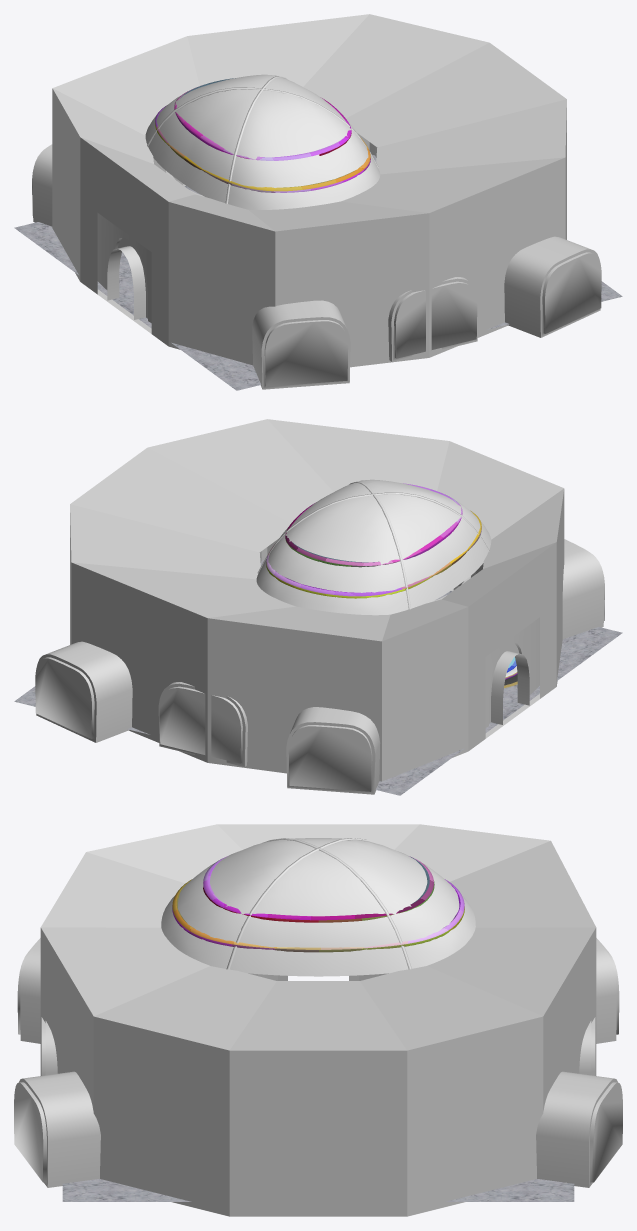
File: LOBBY_avatarHub.fbx
3 views of the same model, one above another, from view 1: azimuth 30°, elevation 25°; view 2: azimuth 150°, elevation 25°; view 3: azimuth 270°, elevation 25° (orthographic). The views are drawn at different scales.
Visible parts, largest first — view 1: LobbyAvatarHub, AvatarLobbyWall.001, AvatarLobbyWall.002, AvatarLobbyWall.008; view 2: LobbyAvatarHub, AvatarLobbyWall.001, AvatarLobbyWall.002, AvatarLobbyWall.008; view 3: LobbyAvatarHub, AvatarLobbyWall.002, AvatarLobbyWall.001, AvatarLobbyWall.008.
Part boxes in pixels (left/top/right/bottom): LobbyAvatarHub: left=52, top=14, right=566, bottom=367; AvatarLobbyWall.001: left=32, top=144, right=601, bottom=389; AvatarLobbyWall.002: left=145, top=74, right=380, bottom=209; AvatarLobbyWall.008: left=14, top=155, right=622, bottom=390; LobbyAvatarHub: left=70, top=419, right=564, bottom=781; AvatarLobbyWall.001: left=35, top=539, right=604, bottom=794; AvatarLobbyWall.002: left=256, top=479, right=491, bottom=615; AvatarLobbyWall.008: left=14, top=560, right=622, bottom=795; LobbyAvatarHub: left=40, top=824, right=596, bottom=1216; AvatarLobbyWall.002: left=161, top=838, right=475, bottom=976; AvatarLobbyWall.001: left=14, top=938, right=622, bottom=1187; AvatarLobbyWall.008: left=62, top=1179, right=574, bottom=1201.
Size of the model in its own units: 2165 by 970 by 2439.
Materials: 5 (3 with a texture image).
